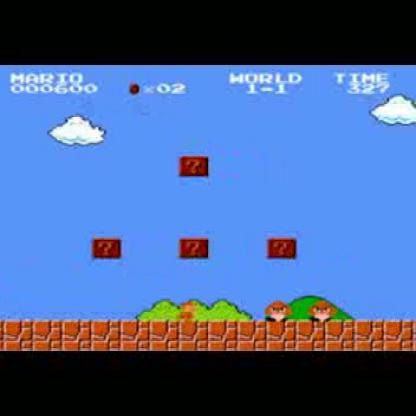Goomba: (309, 296, 337, 323), (264, 299, 294, 322)
